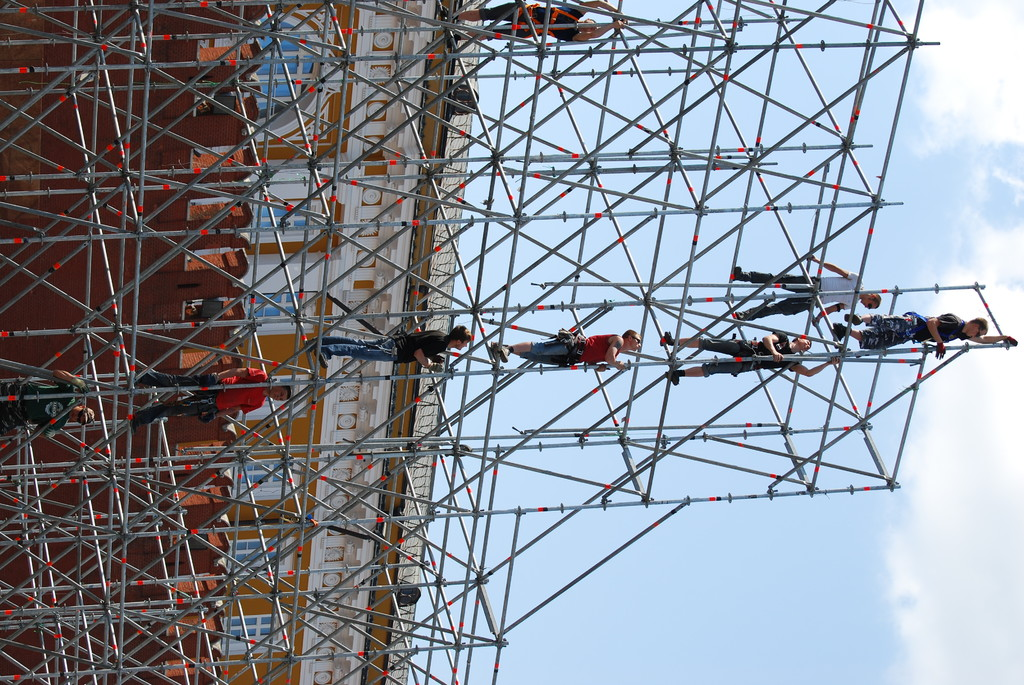person: (484, 328, 640, 371)
